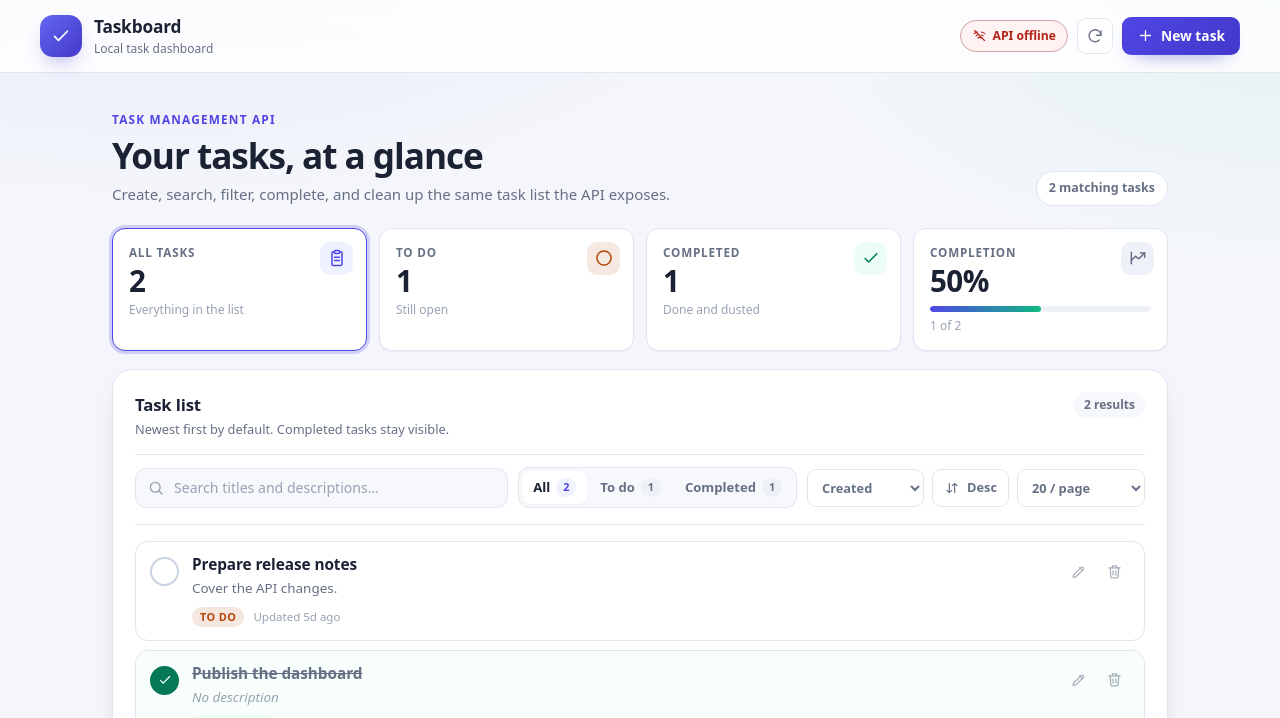
Test: App › deletes a task after confirmation
The width and height of the screenshot is (1280, 718).
Expected: the heading "Prepare release notes" is shown, [192,554,357,575]
Click the button named "Delete “Prepare release notes”" at (1114, 571), box [1098,555,1130,587]
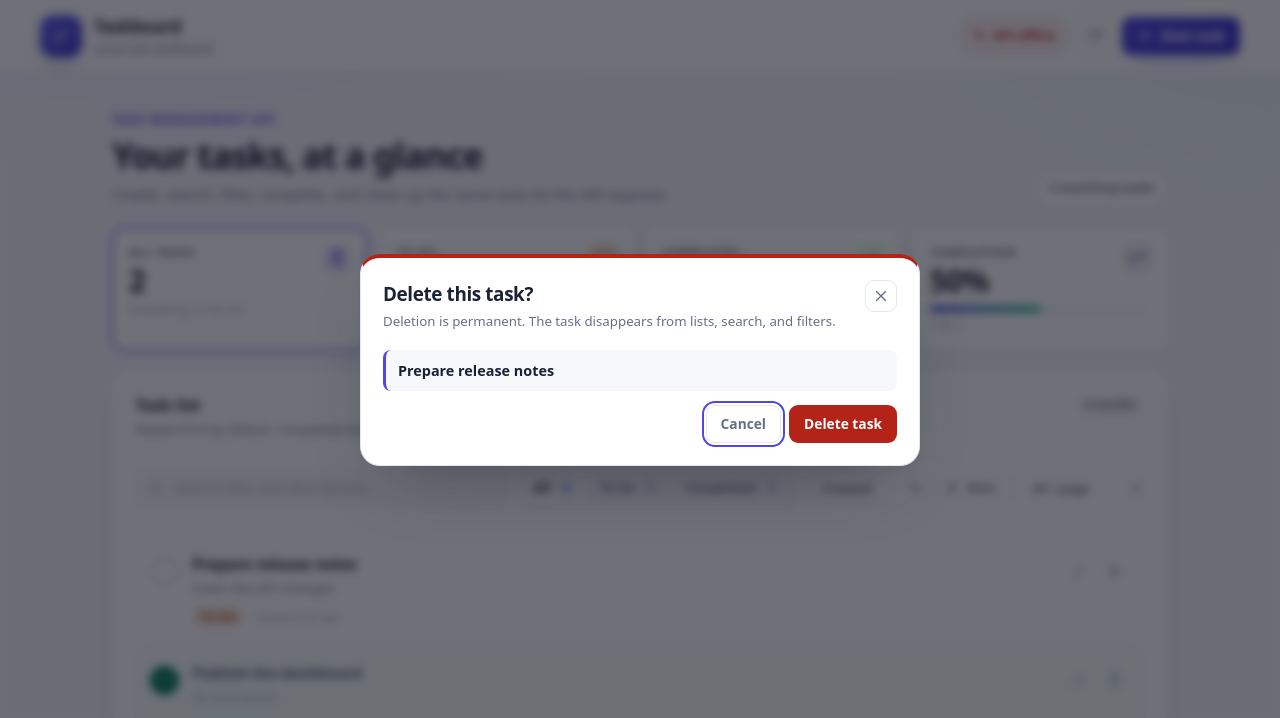
Expected: the heading "Delete this task?" is shown, [383,281,533,307]
Click the button "Delete task" at (843, 424), box [789,405,897,443]
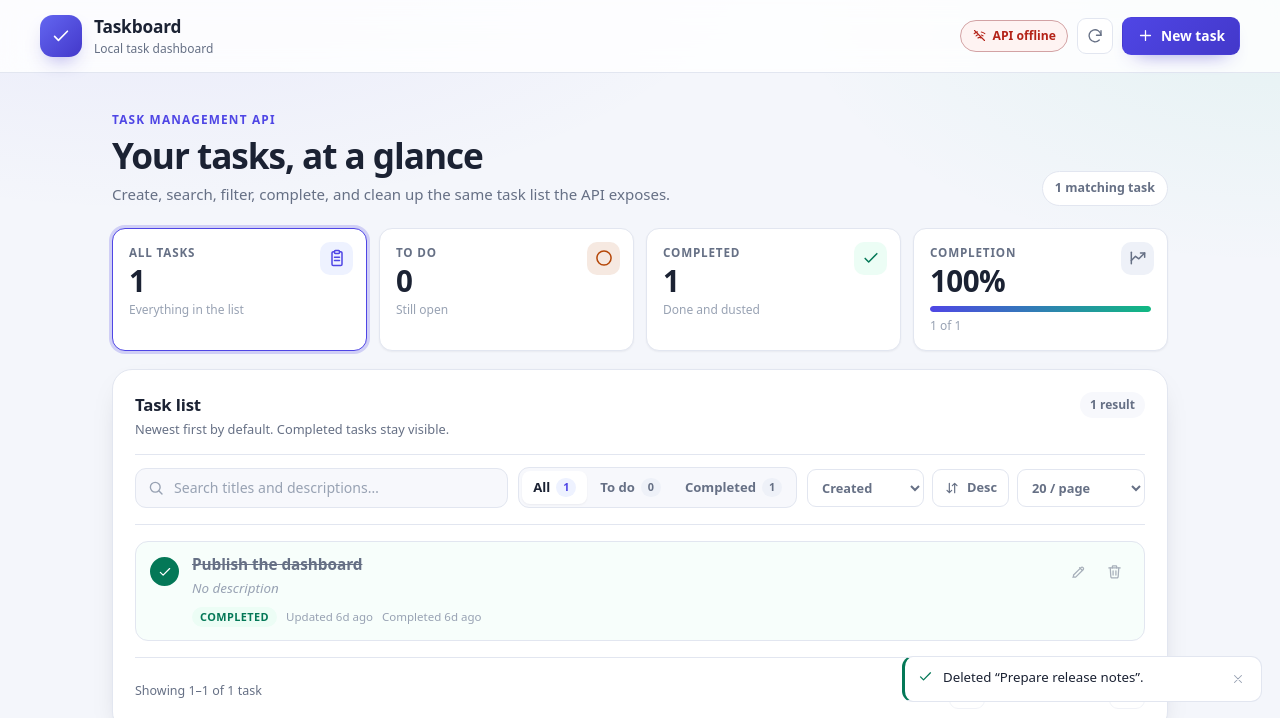
Expected: the text "Deleted “Prepare release notes”." is shown, [943,668,1144,686]
